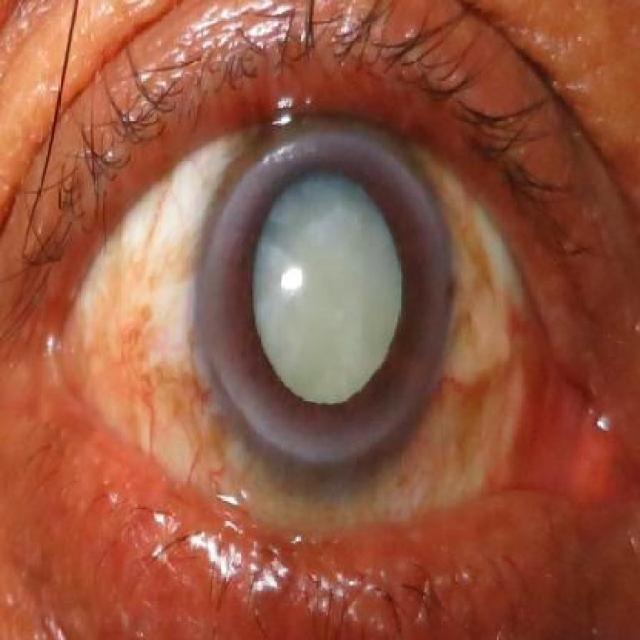Cataract: (202, 127, 455, 458)
